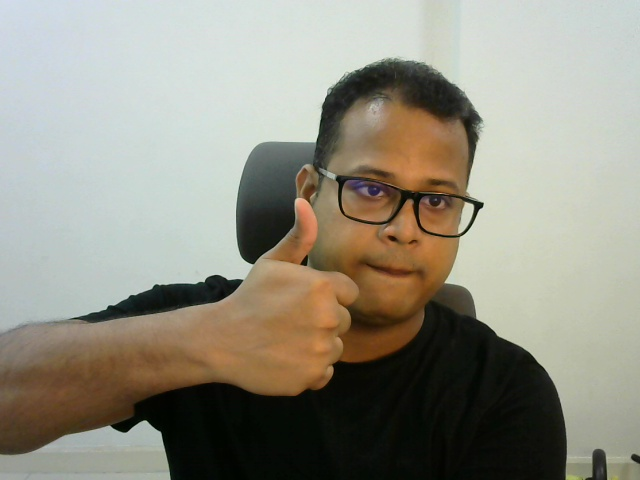ThumbsUp: (240, 198, 360, 398)
